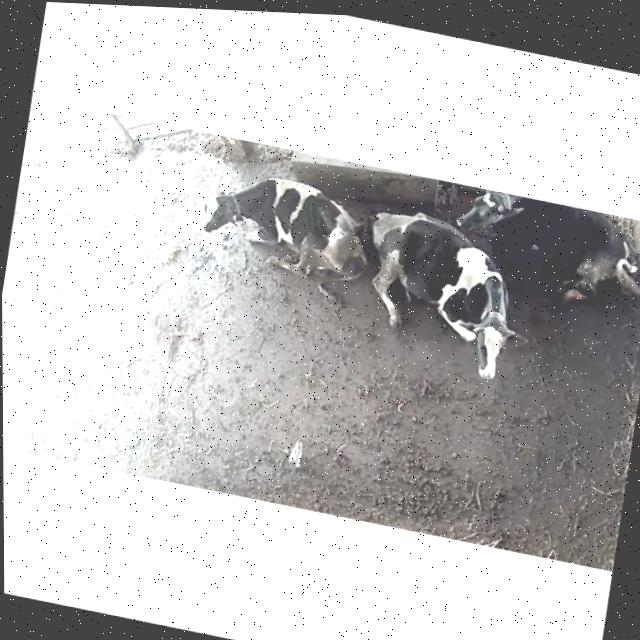lay: (351, 200, 549, 395), (193, 154, 376, 306), (449, 183, 640, 296)
